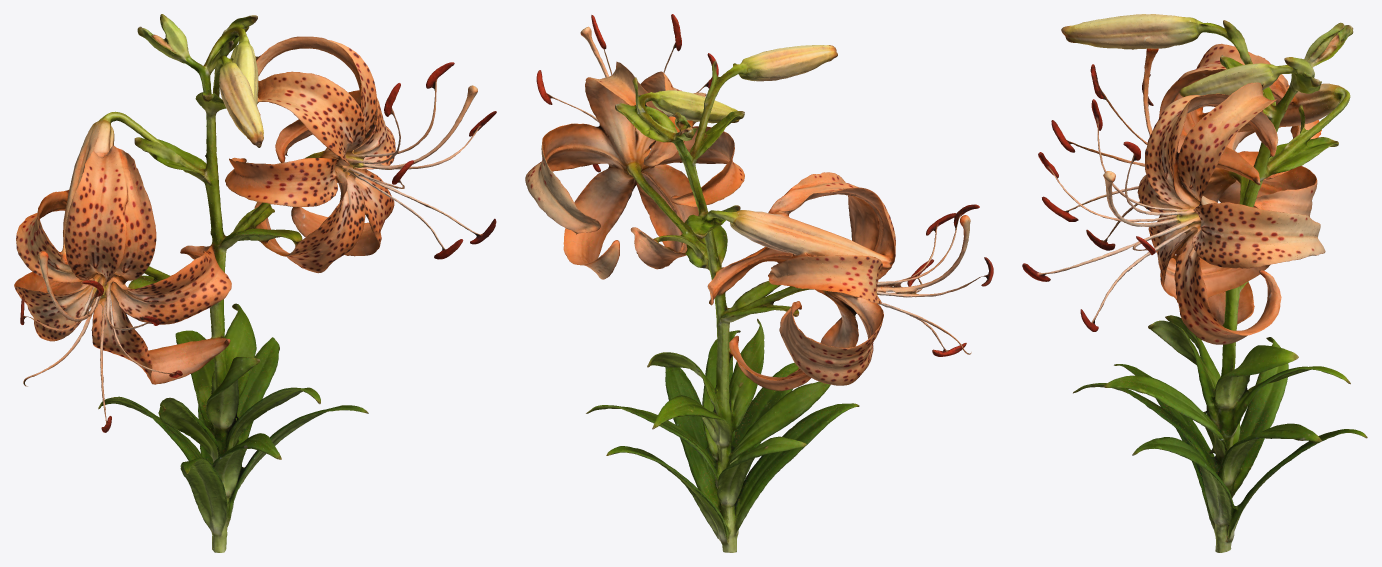
Rendered from lily.glb.
The picture shows the model from 3 angles, left to right: view 1: azimuth 30°, elevation 25°; view 2: azimuth 150°, elevation 25°; view 3: azimuth 270°, elevation 25°; orthographic projection. The views are drawn at different scales.
Visible parts, largest first — view 1: Object_6, Object_10; view 2: Object_10, Object_6; view 3: Object_10, Object_6.
Boxes of the visible parts, x1,y1,x2,y2 form: Object_6: [14, 15, 496, 552]; Object_10: [14, 14, 496, 549]; Object_10: [525, 14, 993, 552]; Object_6: [525, 14, 992, 552]; Object_10: [1022, 14, 1367, 552]; Object_6: [1022, 14, 1367, 552].
Size of the model in its own units: 0.9786 by 1 by 0.5818.
Materials: 2 (2 with a texture image).
